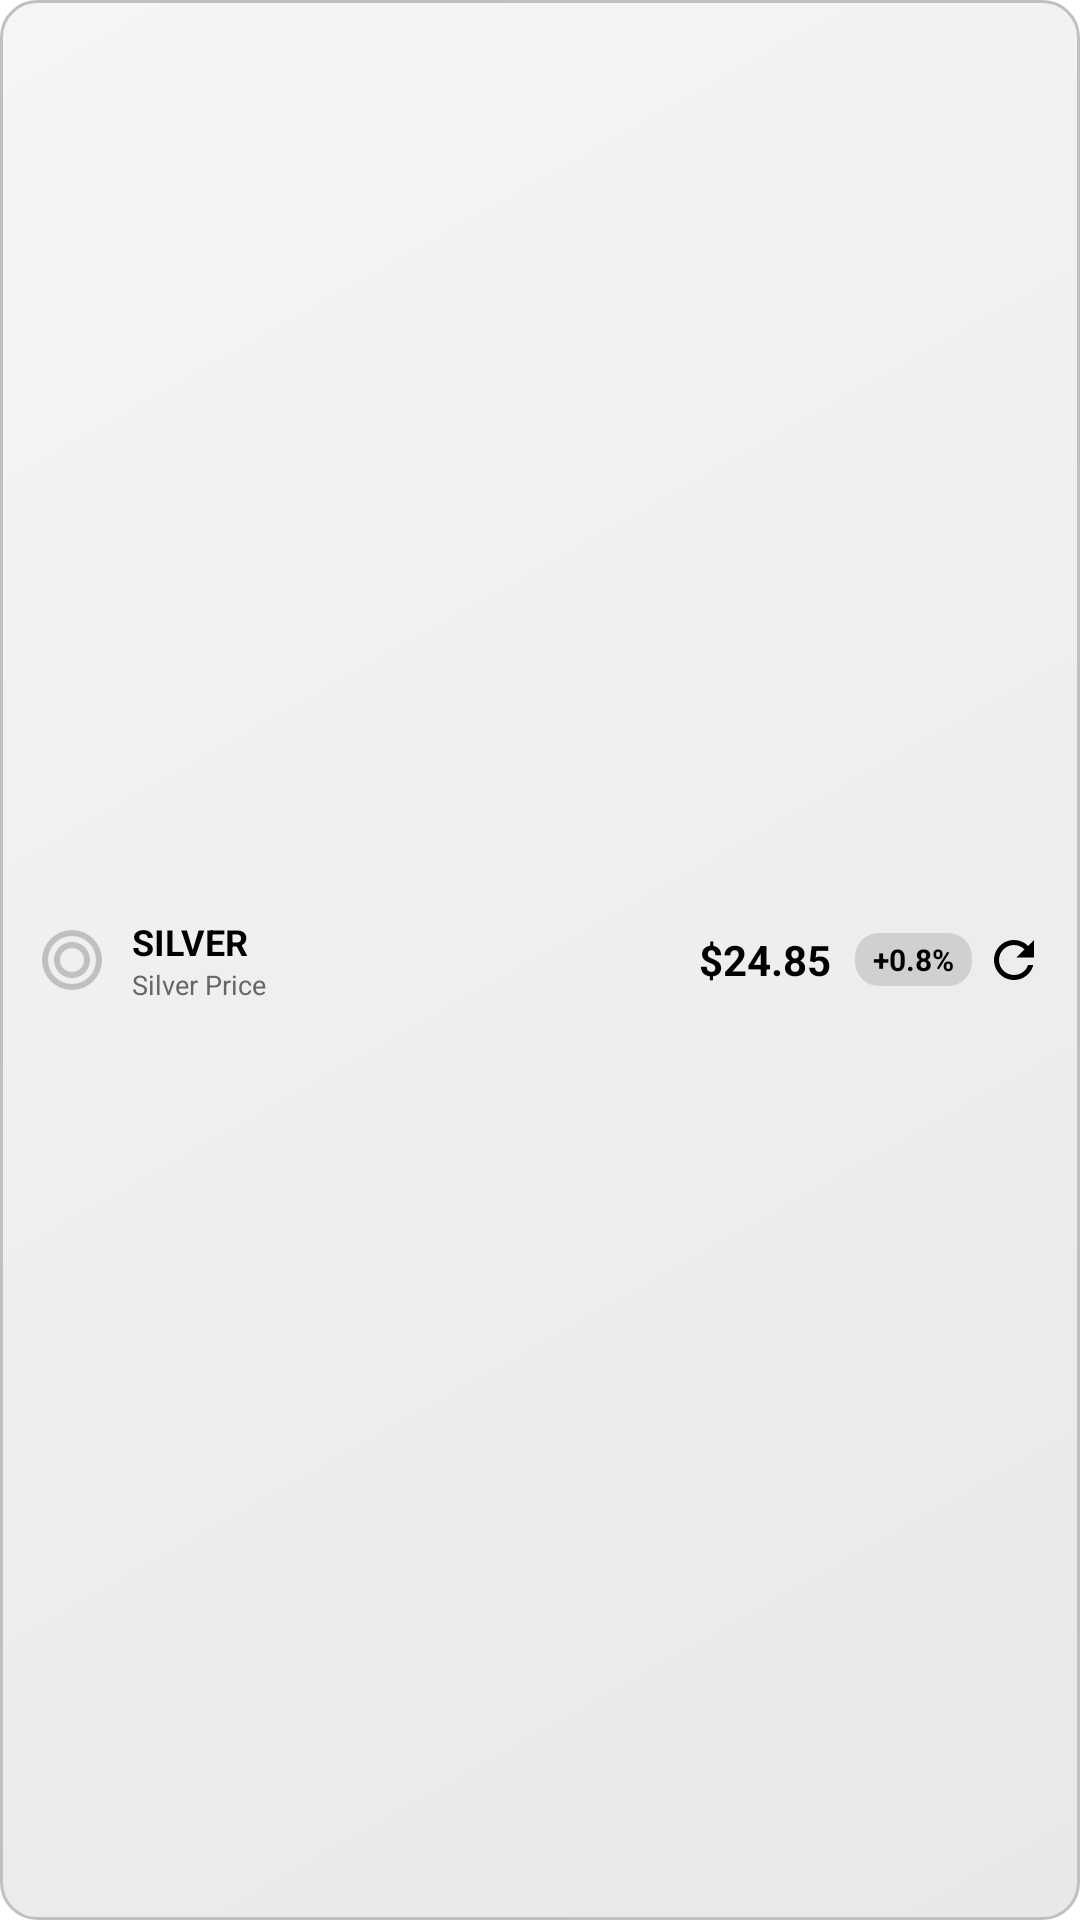

Where to tap for icons on this 1080 x 1920 app screen, as (x=x, y=y):
refresh: (x=1014, y=960)
